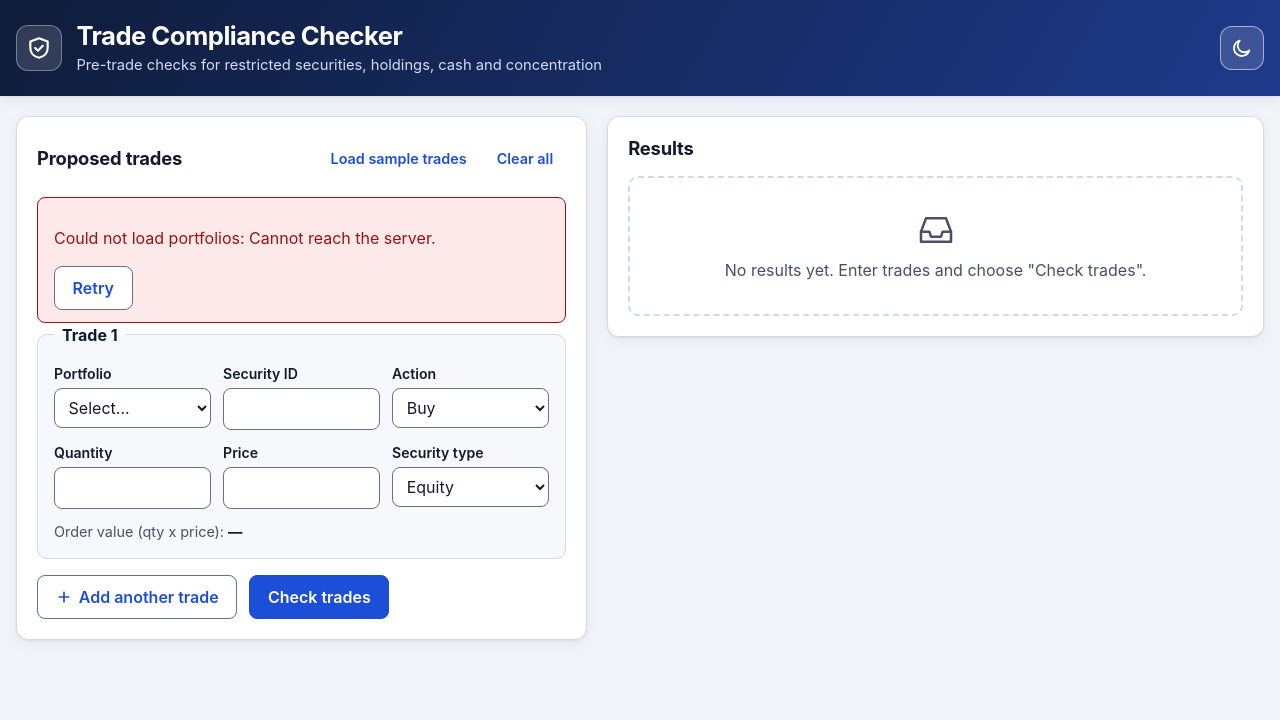
Test case: loading and error states › portfolioLoadFailure_showsAlertAndRetryRecovers
Expected: the message shows "Could not load portfolios: Cannot reach the server.", [37,197,566,323]
Click the button "Retry".
click(93, 288)  # box [54,266,132,310]
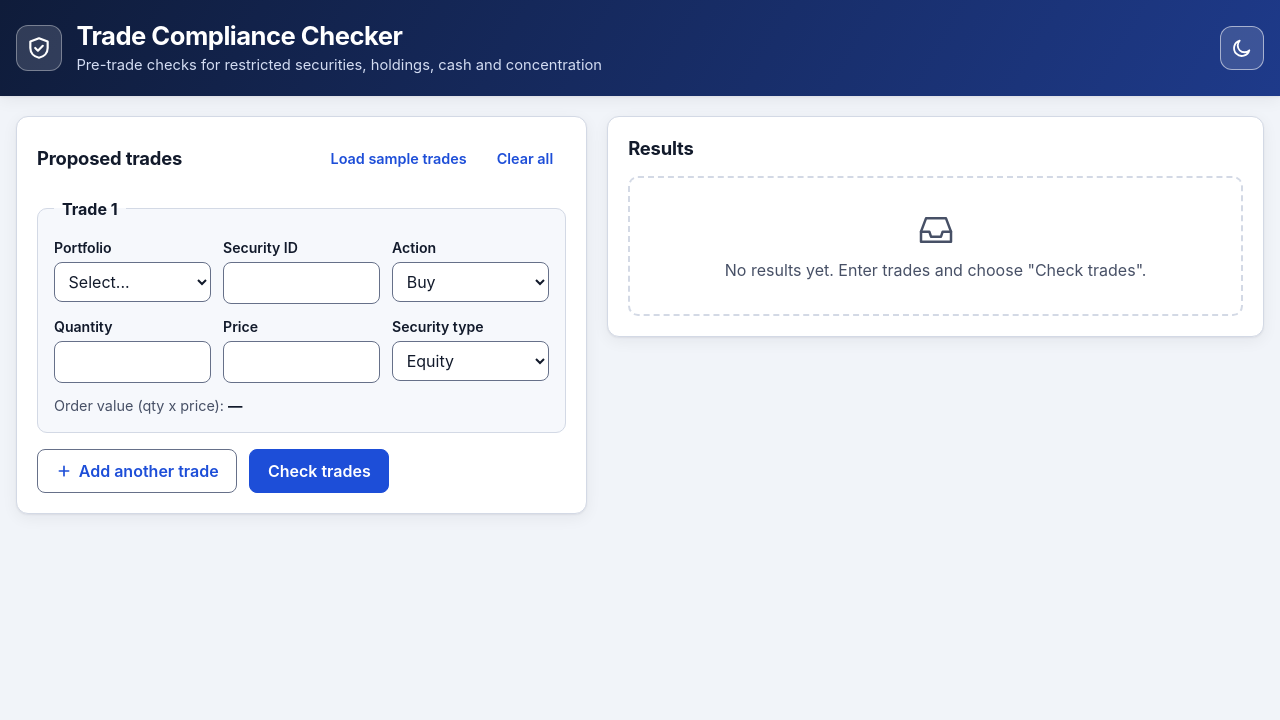
Now the message "Could not load portfolios: Cannot reach the server. Retry" is gone
